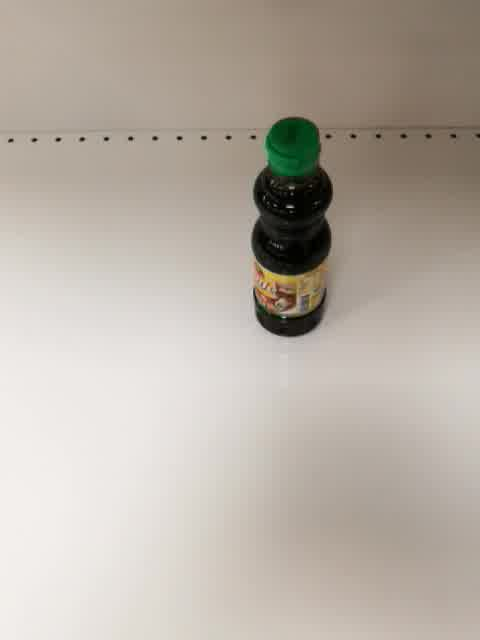cookingoil: (250, 114, 334, 341)
